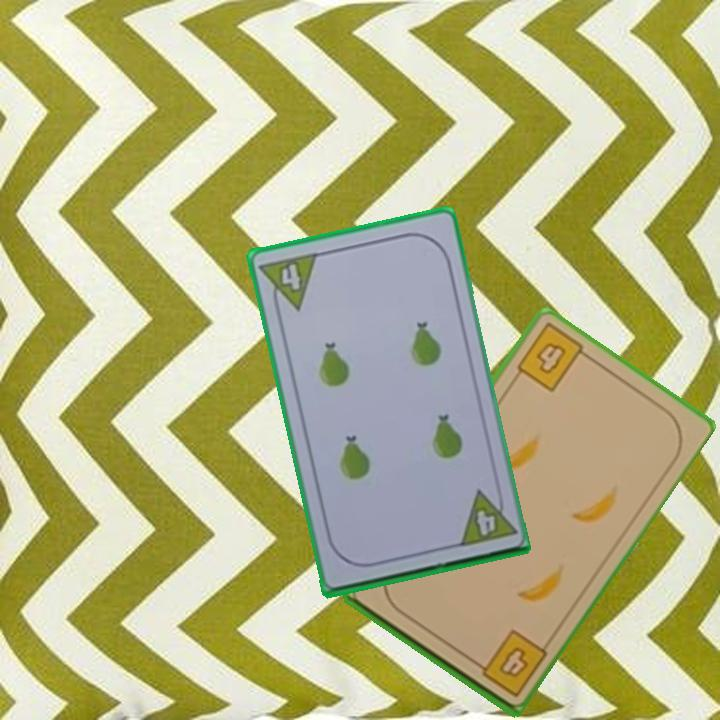4b: (512, 320, 594, 395), (467, 626, 550, 700)
4p: (453, 483, 518, 550), (256, 249, 320, 317)
